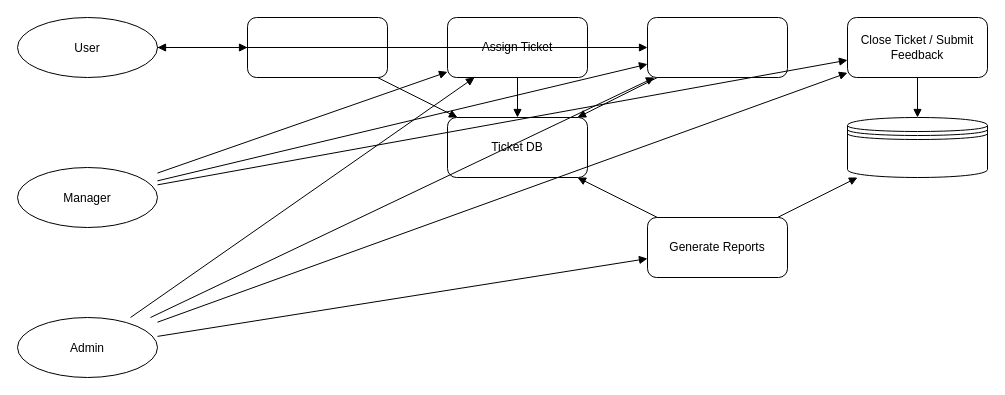
The diagram is 1005 pixels wide and 395 high, and some of its shapes have lost their labels. Here are the shapes that lost their labels. From the top down, the centre of each, then its label:
At point 317,47: "Create Ticket".
At point 717,47: "Resolve Ticket".
At point 917,147: "Feedback DB".
